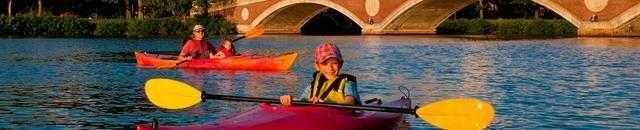kayak: (193, 100, 412, 129), (133, 50, 298, 72), (415, 97, 496, 129)
